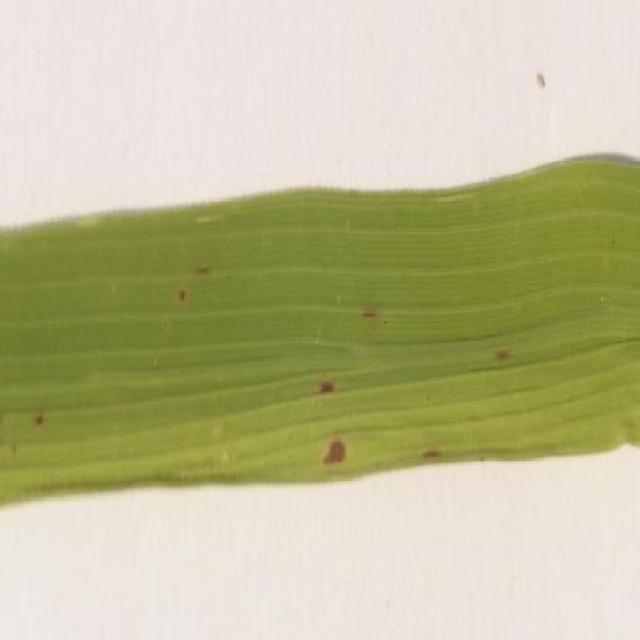Leaf_Blast: (312, 355, 358, 476), (359, 288, 392, 349), (0, 406, 48, 445), (492, 332, 516, 379), (194, 248, 221, 288), (415, 443, 447, 465), (170, 275, 188, 308)
